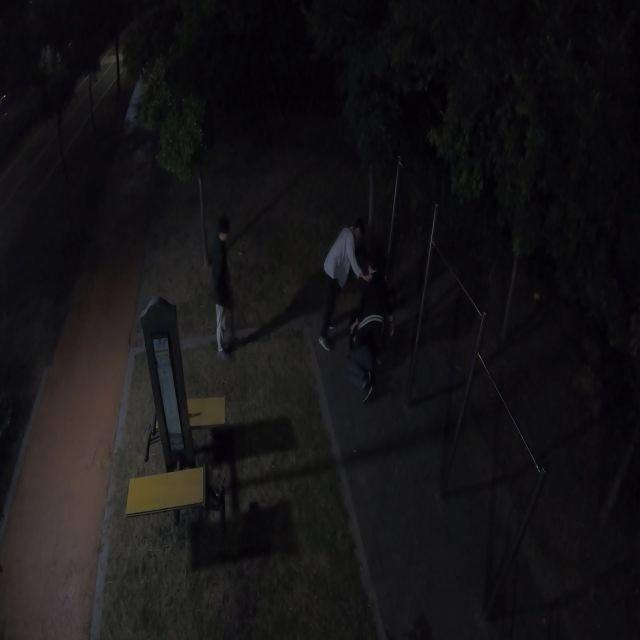fight: (318, 215, 402, 402)
non-fight: (209, 212, 243, 362)
